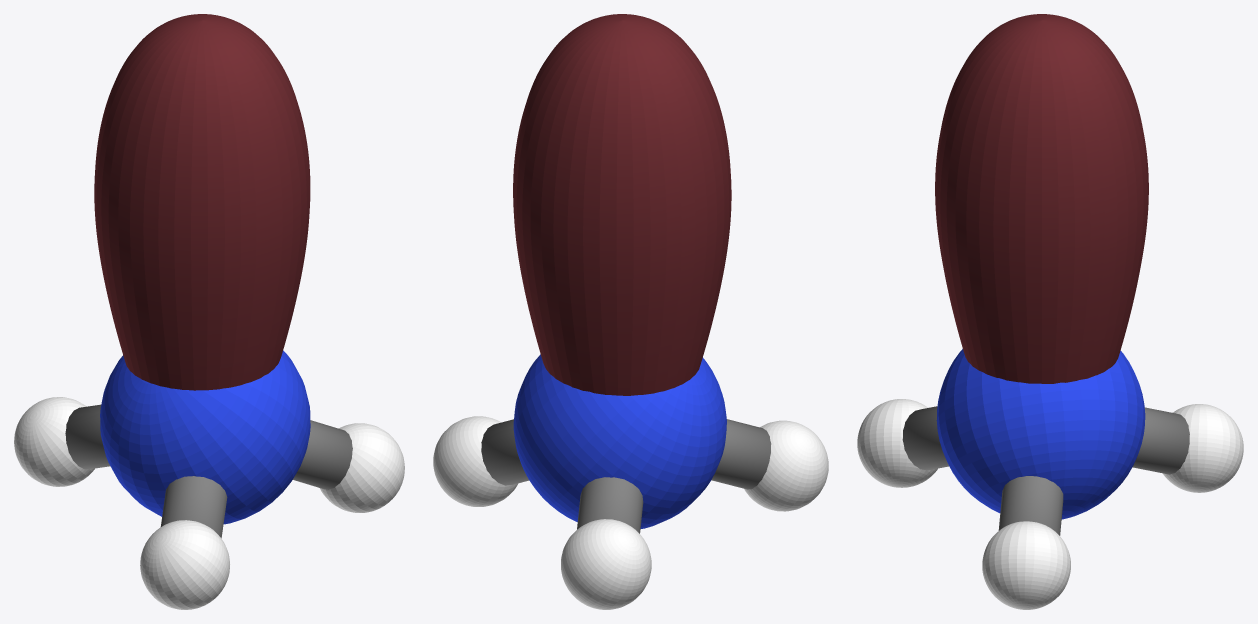
File: AMONIACO.mtl.obj
3 views of the same model, side by side, from view 1: azimuth 30°, elevation 25°; view 2: azimuth 150°, elevation 25°; view 3: azimuth 270°, elevation 25° (orthographic). The views are drawn at different scales.
Parts seen in each view (by area): view 1: sp3Np, Nitrogen_ball_Sphere.001, Hydrogen_ball_Sphere, Stick_Cylinder.001_Cylinder.001, Stick_Cylinder.002_Cylinder.002, Stick_Cylinder_Cylinder; view 2: sp3Np, Nitrogen_ball_Sphere.001, Hydrogen_ball_Sphere, Stick_Cylinder.001_Cylinder.001, Stick_Cylinder_Cylinder, Stick_Cylinder.002_Cylinder.002; view 3: sp3Np, Nitrogen_ball_Sphere.001, Hydrogen_ball_Sphere, Stick_Cylinder.002_Cylinder.002, Stick_Cylinder_Cylinder, Stick_Cylinder.001_Cylinder.001.
Boxes of the visible parts, bbox=[...] form: sp3Np: bbox=[94, 14, 310, 390]; Nitrogen_ball_Sphere.001: bbox=[100, 350, 310, 524]; Hydrogen_ball_Sphere: bbox=[14, 397, 404, 609]; Stick_Cylinder.001_Cylinder.001: bbox=[160, 476, 227, 538]; Stick_Cylinder.002_Cylinder.002: bbox=[293, 420, 352, 489]; Stick_Cylinder_Cylinder: bbox=[65, 404, 109, 469]; sp3Np: bbox=[513, 14, 731, 395]; Nitrogen_ball_Sphere.001: bbox=[513, 354, 726, 528]; Hydrogen_ball_Sphere: bbox=[433, 416, 828, 609]; Stick_Cylinder.001_Cylinder.001: bbox=[711, 419, 771, 489]; Stick_Cylinder_Cylinder: bbox=[577, 477, 643, 533]; Stick_Cylinder.002_Cylinder.002: bbox=[481, 419, 529, 485]; sp3Np: bbox=[935, 14, 1148, 383]; Nitrogen_ball_Sphere.001: bbox=[936, 349, 1145, 519]; Hydrogen_ball_Sphere: bbox=[857, 399, 1243, 609]; Stick_Cylinder.002_Cylinder.002: bbox=[998, 476, 1063, 535]; Stick_Cylinder_Cylinder: bbox=[1132, 407, 1189, 474]; Stick_Cylinder.001_Cylinder.001: bbox=[902, 406, 948, 470].
Bounding box in the file's own units: 2.33 × 3.67 × 2.5.
